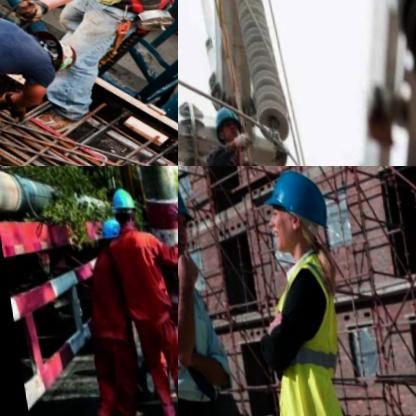helmet: (253, 166, 337, 264), (30, 20, 78, 71), (178, 166, 201, 267), (206, 97, 245, 151), (106, 182, 140, 231)
